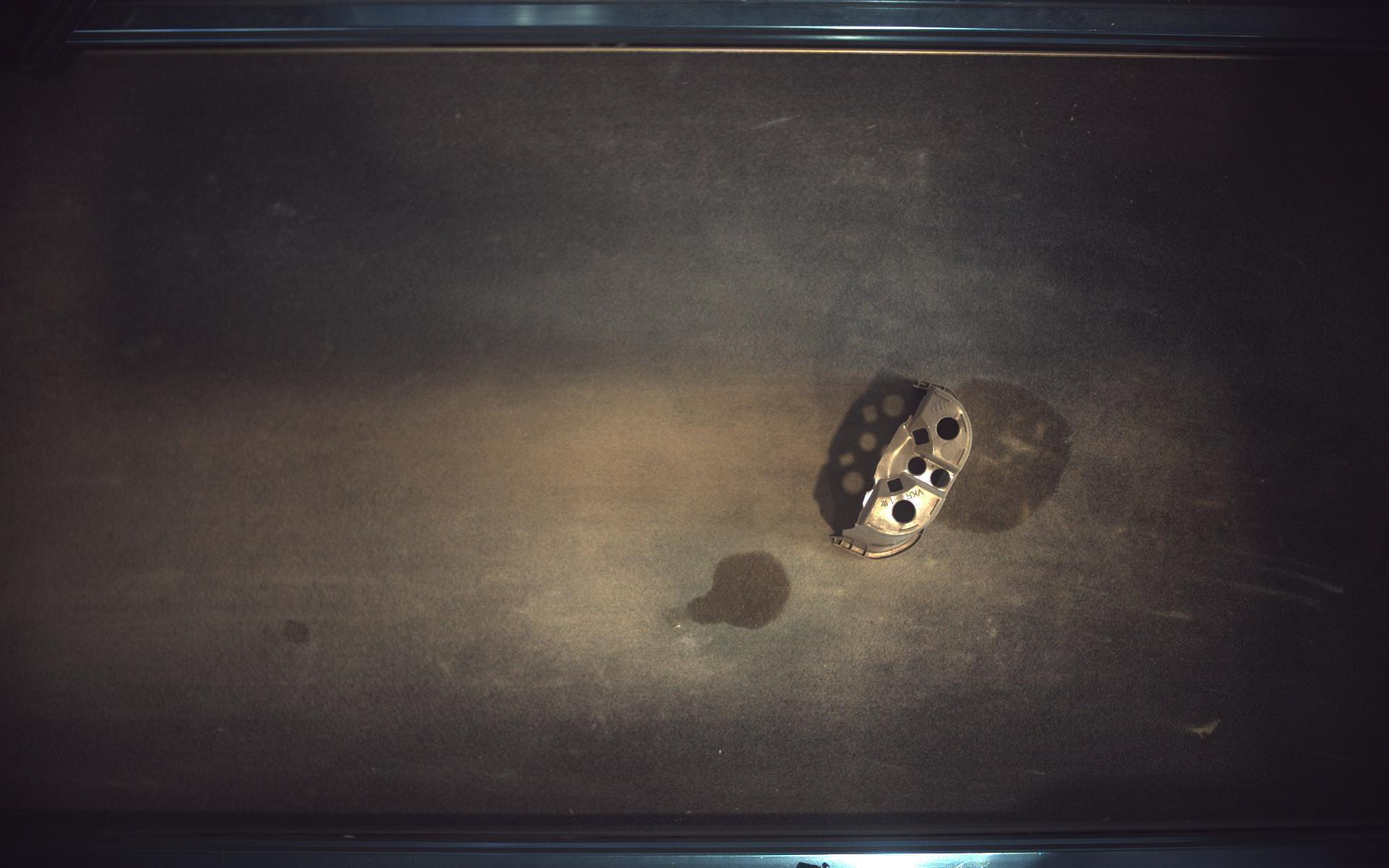general_w: (831, 378, 974, 558)
